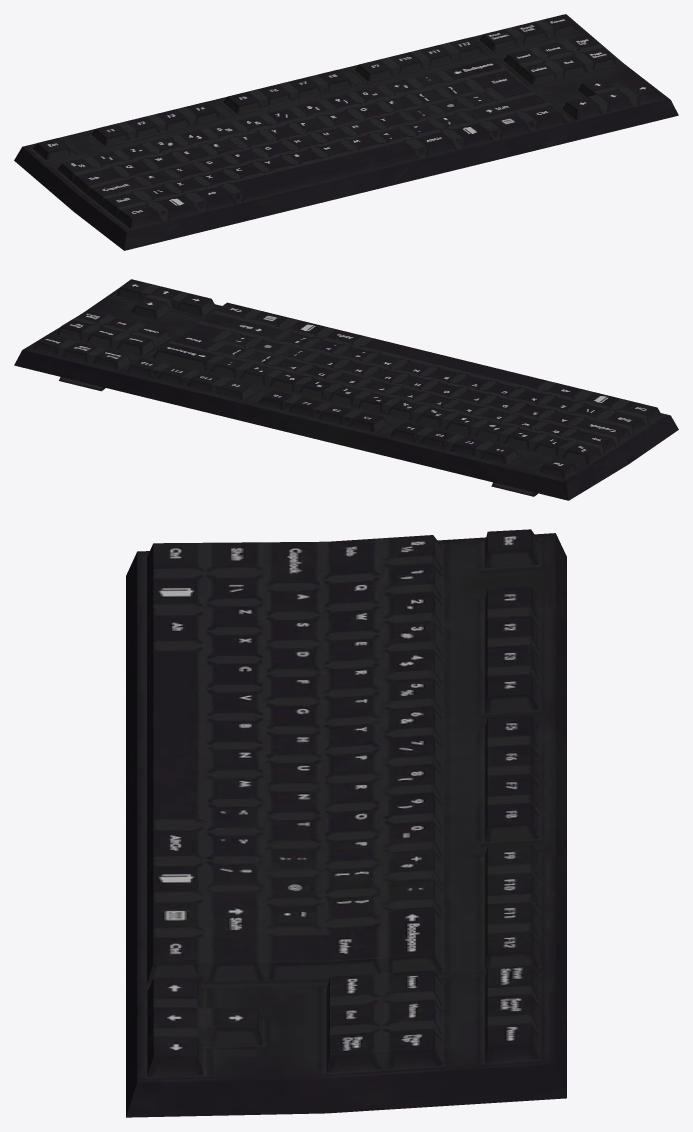
File: kb-logitech-k120_lod2.glb
3 views of the same model, one above another, from view 1: azimuth 30°, elevation 25°; view 2: azimuth 150°, elevation 25°; view 3: azimuth 270°, elevation 25° (orthographic). The views are drawn at different scales.
Parts seen in each view (by area): view 1: body; view 2: body; view 3: body.
Boxes of the visible parts, bbox=[...] form: body: bbox=[14, 14, 678, 250]; body: bbox=[14, 279, 678, 500]; body: bbox=[126, 529, 566, 1117].
Bounding box in the file's own units: 0.45 × 0.0235 × 0.155.
1 material, 1 textured.
